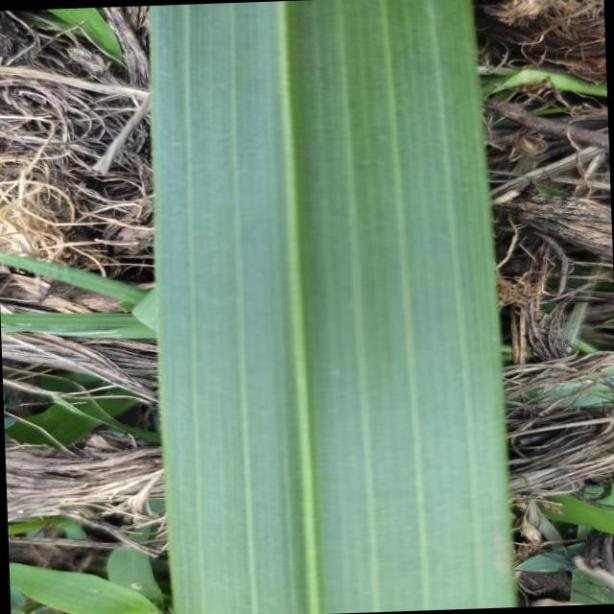Healthy: (149, 0, 515, 614)
